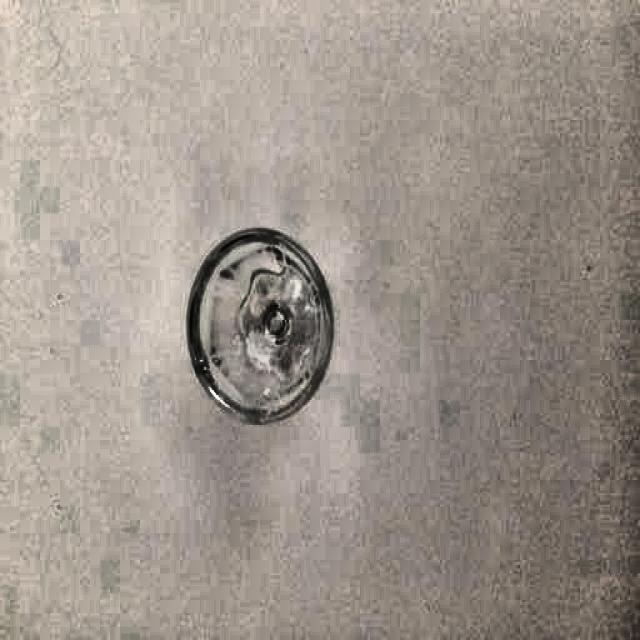glass: (183, 225, 337, 423)
